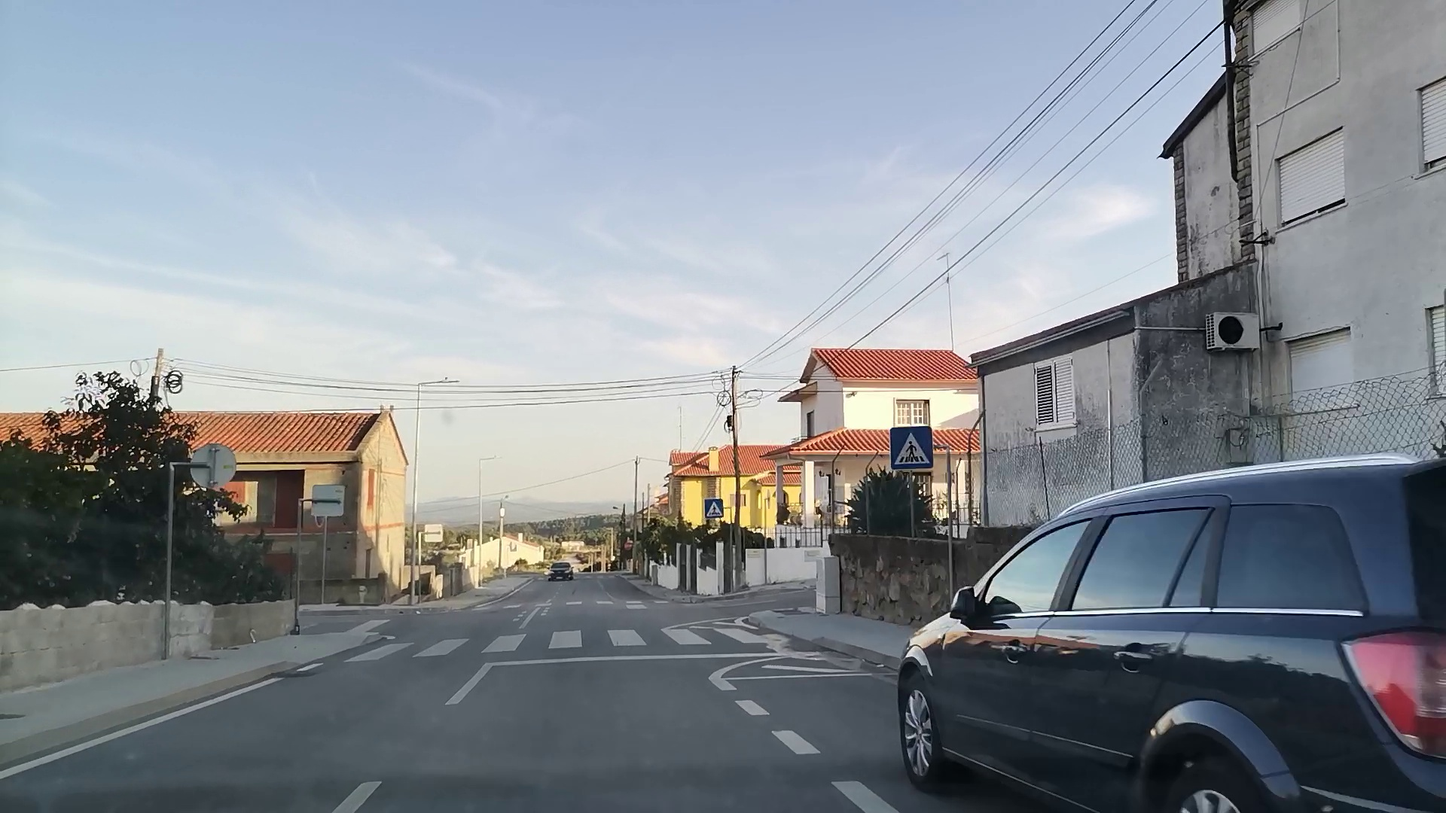Stairs: (354, 628, 795, 659)
